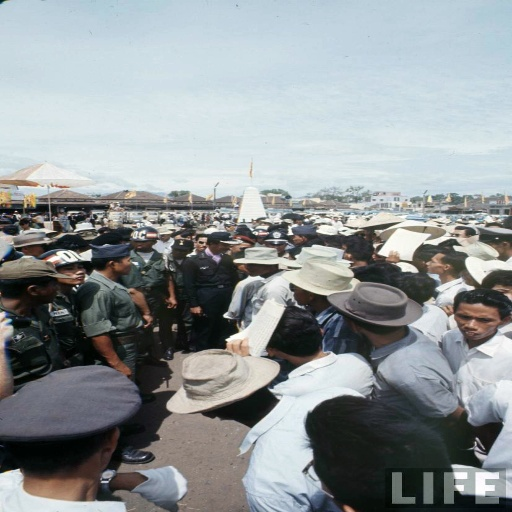hand: (131, 465, 191, 511), (224, 336, 248, 357), (0, 311, 16, 340), (110, 361, 133, 378), (384, 248, 400, 263), (139, 314, 156, 327), (439, 304, 453, 315), (168, 297, 178, 308), (190, 305, 201, 313), (227, 320, 236, 326)
